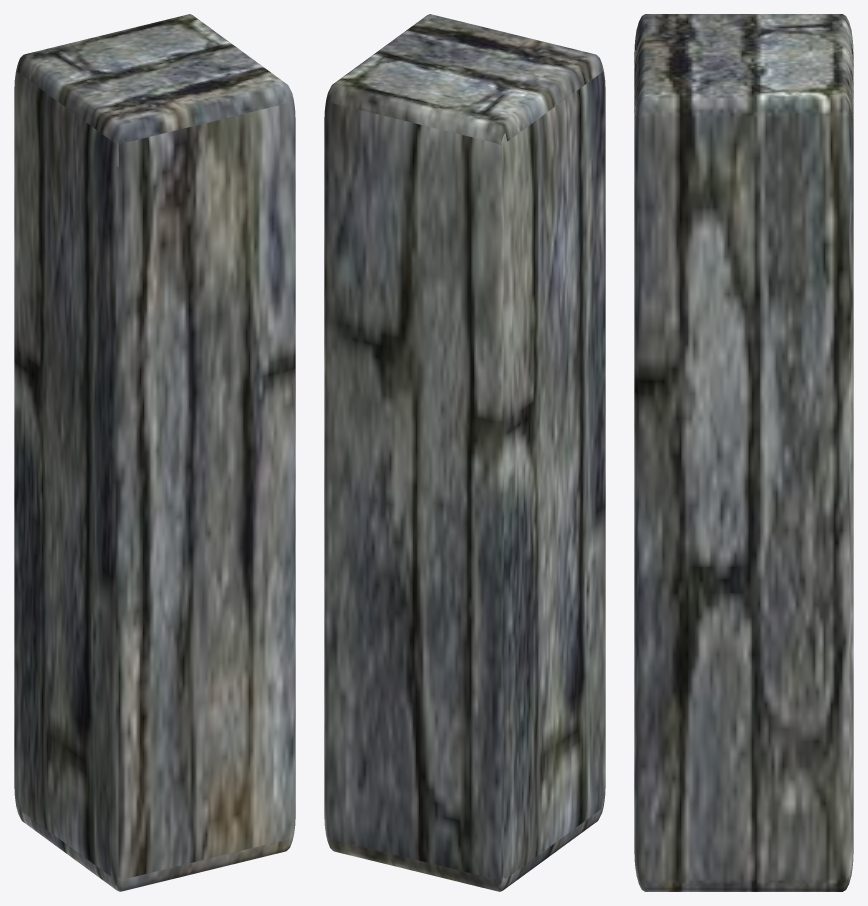
The model's file is cuboid.obj.
The picture shows the model from 3 angles, left to right: view 1: azimuth 30°, elevation 25°; view 2: azimuth 150°, elevation 25°; view 3: azimuth 270°, elevation 25°; orthographic projection. The views are drawn at different scales.
Parts seen in each view (by area): view 1: Cube_Finished_Cube.001; view 2: Cube_Finished_Cube.001; view 3: Cube_Finished_Cube.001.
Boxes of the visible parts, left/top/right/bottom form: Cube_Finished_Cube.001: left=14, top=14, right=295, bottom=891; Cube_Finished_Cube.001: left=324, top=14, right=605, bottom=891; Cube_Finished_Cube.001: left=634, top=14, right=853, bottom=891.
Size of the model in its own units: 1 by 4 by 1.
1 material, 1 textured.
